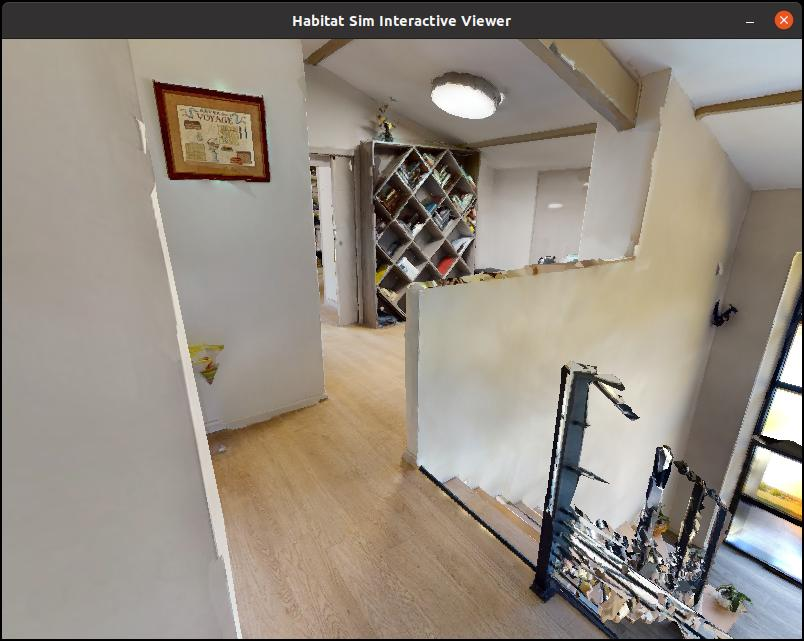stairs: (445, 383, 718, 637)
